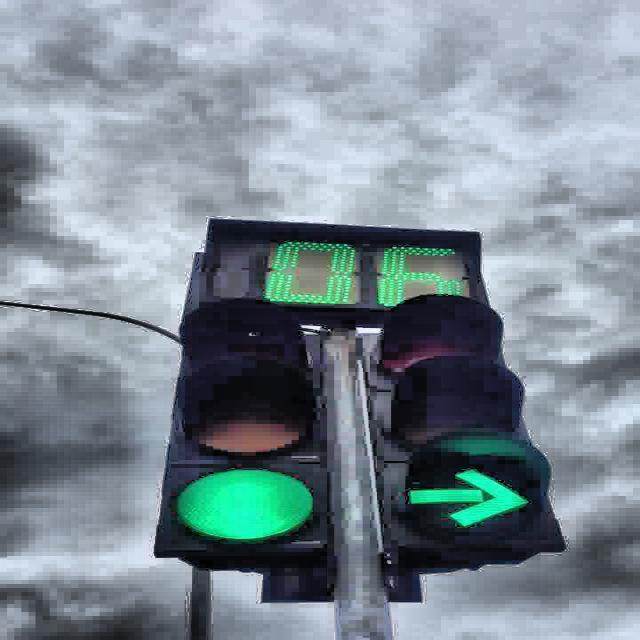green: (363, 295, 568, 553), (150, 301, 332, 558)
